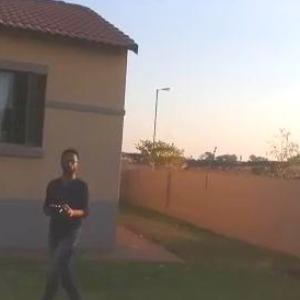follow: (30, 140, 98, 299)
